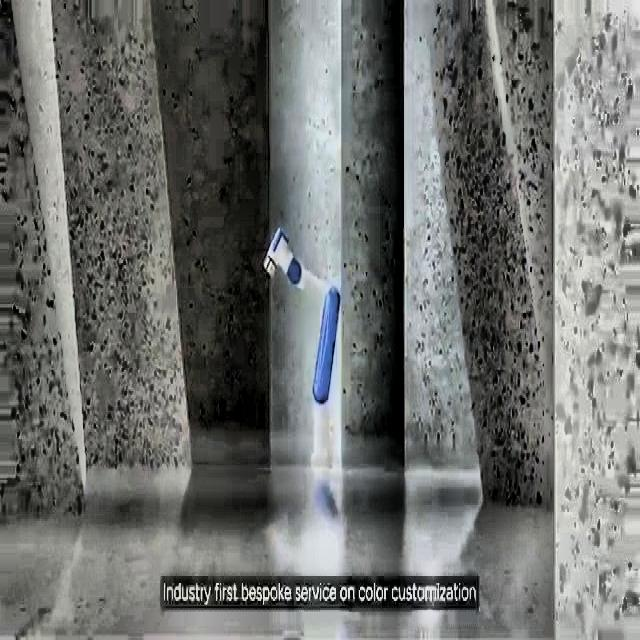robot: (261, 224, 341, 404)
